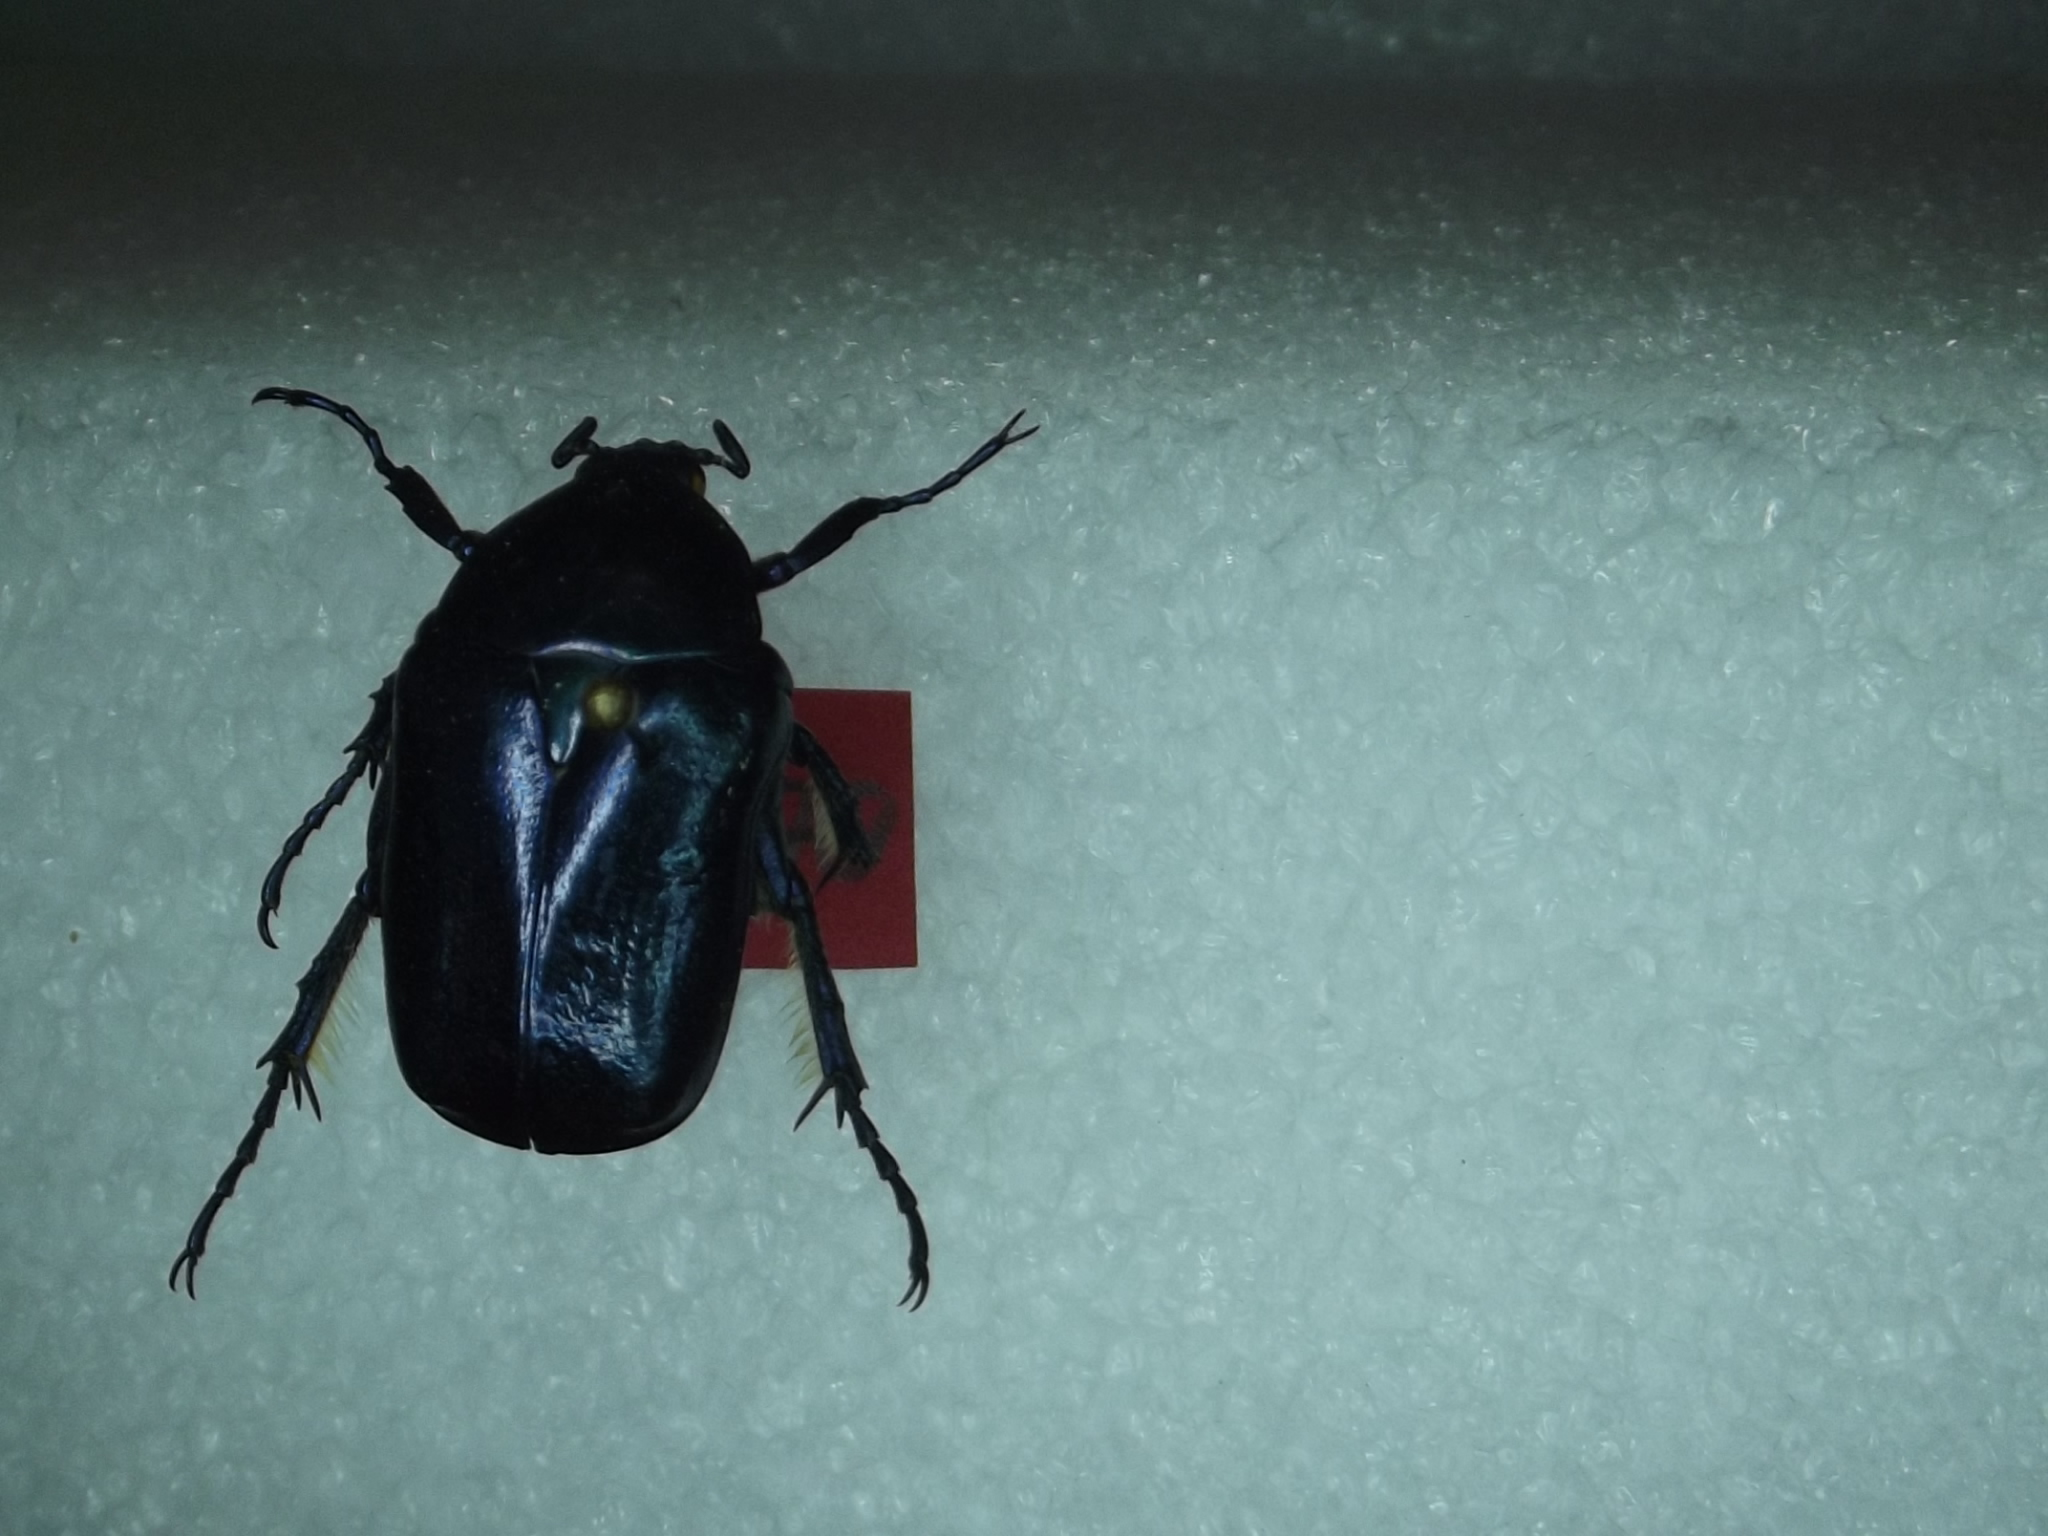Protaetia_besucheti: (135, 345, 1055, 1371)
